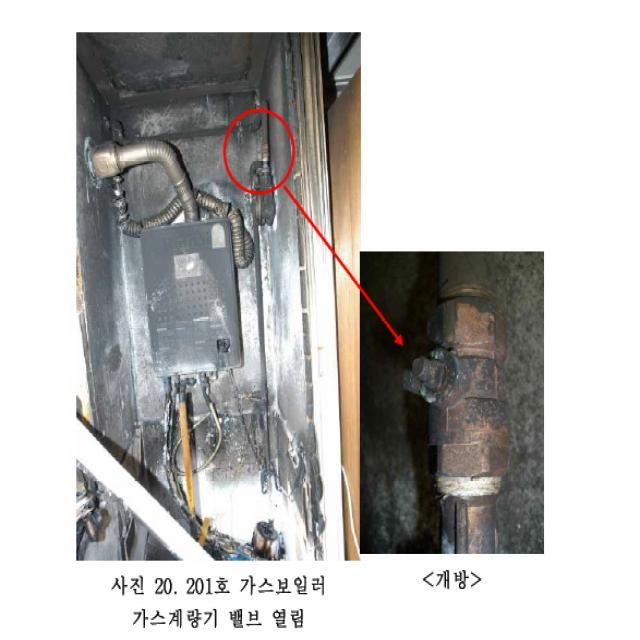Boiler: (123, 201, 271, 415)
